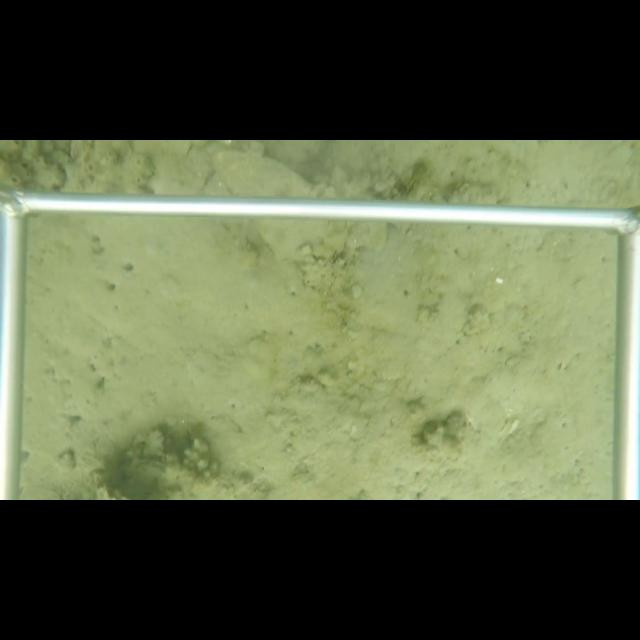Oyster-Closed: (212, 148, 330, 260), (406, 174, 435, 200)
